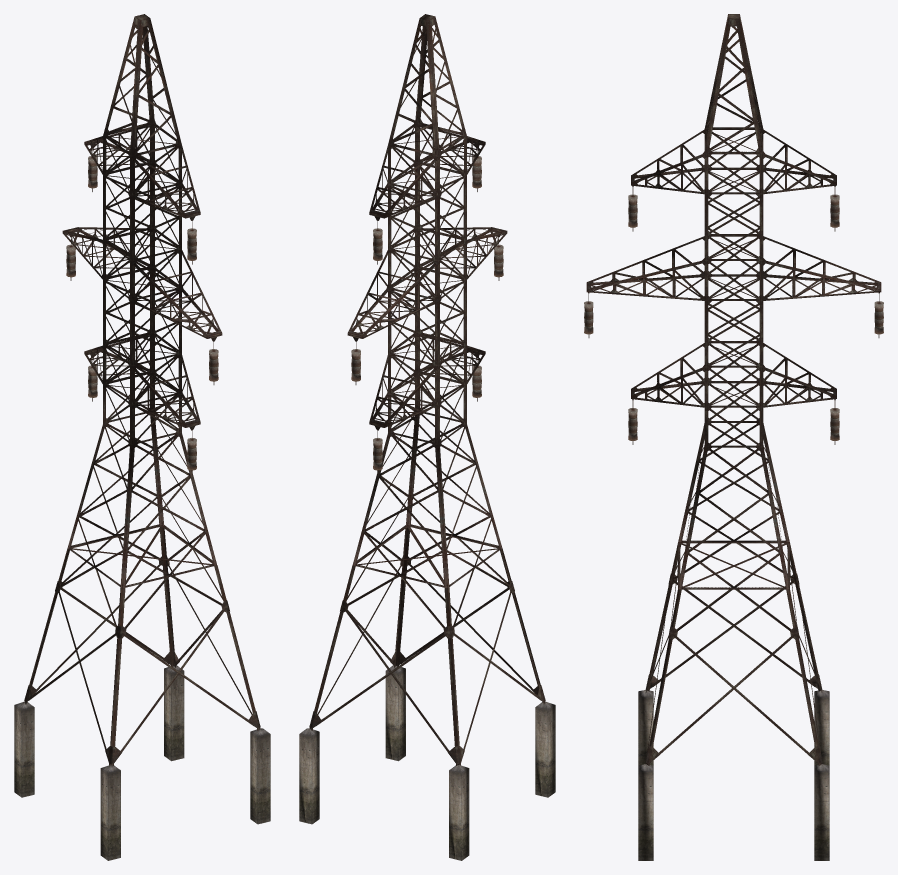
The model's file is lep_vishka_2.fbx.
The picture shows the model from 3 angles, left to right: view 1: azimuth 30°, elevation 25°; view 2: azimuth 150°, elevation 25°; view 3: azimuth 270°, elevation 25°; orthographic projection.
Parts seen in each view (by area): view 1: 1, 0; view 2: 1, 0; view 3: 1, 0.
Boxes of the visible parts, x1=… form: 1: x1=62, y1=14, x2=222, y2=588; 0: x1=14, y1=143, x2=270, y2=860; 1: x1=347, y1=14, x2=507, y2=588; 0: x1=299, y1=143, x2=555, y2=860; 1: x1=586, y1=14, x2=881, y2=589; 0: x1=584, y1=185, x2=883, y2=860.
Bounding box in the file's own units: 6.49 × 30.14 × 10.18.
